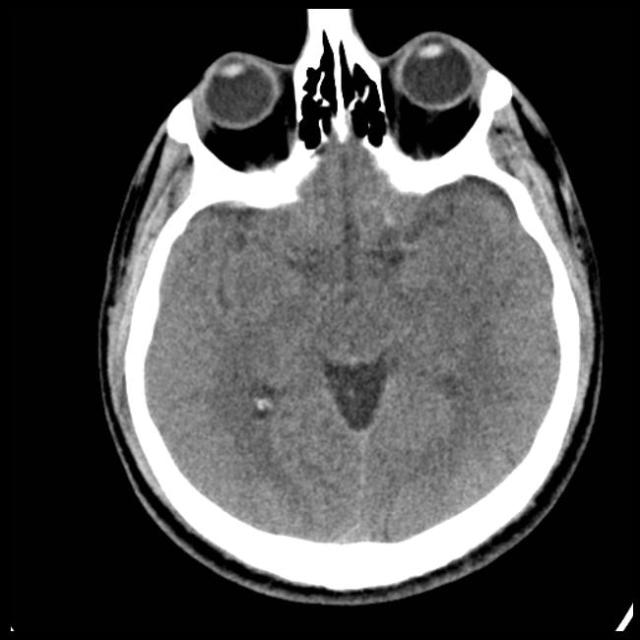lesion: (95, 8, 606, 603)
